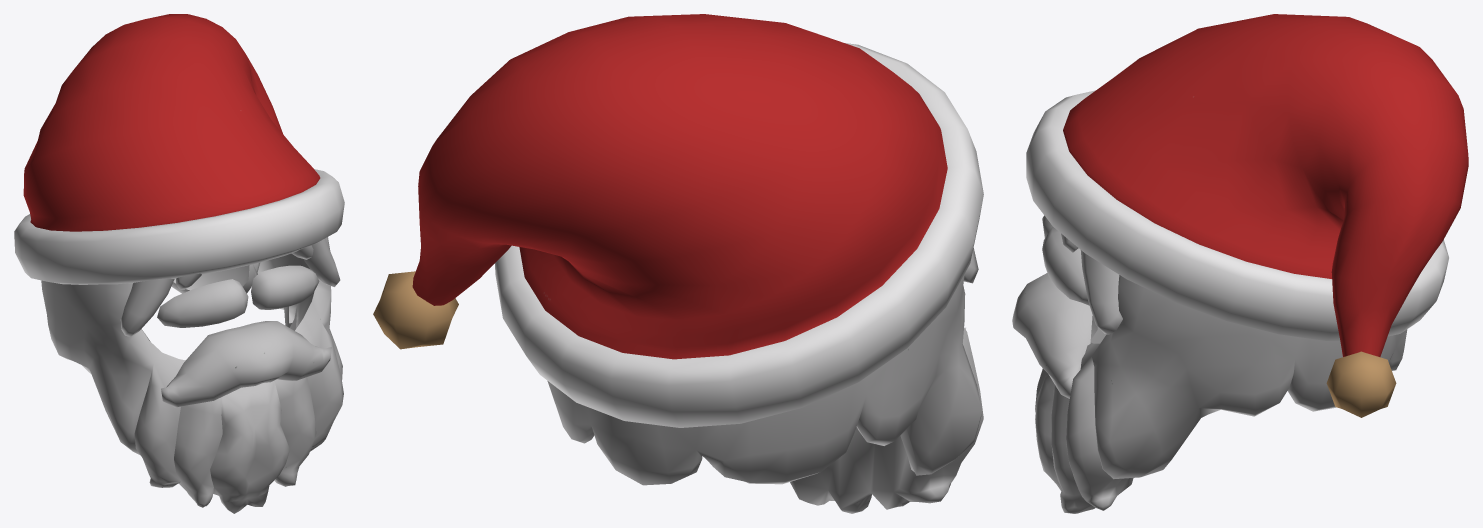
File: 32圣诞老人帽.fbx
The picture shows the model from 3 angles, left to right: view 1: azimuth 30°, elevation 25°; view 2: azimuth 150°, elevation 25°; view 3: azimuth 270°, elevation 25°; orthographic projection. The views are drawn at different scales.
Visible parts, largest first — view 1: 32圣诞老人帽; view 2: 32圣诞老人帽; view 3: 32圣诞老人帽.
Part boxes in pixels (left/top/right/bottom): 32圣诞老人帽: left=14, top=14, right=344, bottom=513; 32圣诞老人帽: left=373, top=14, right=983, bottom=513; 32圣诞老人帽: left=1012, top=14, right=1468, bottom=513.
Size of the model in its own units: 0.5674 by 0.6403 by 0.5468.
